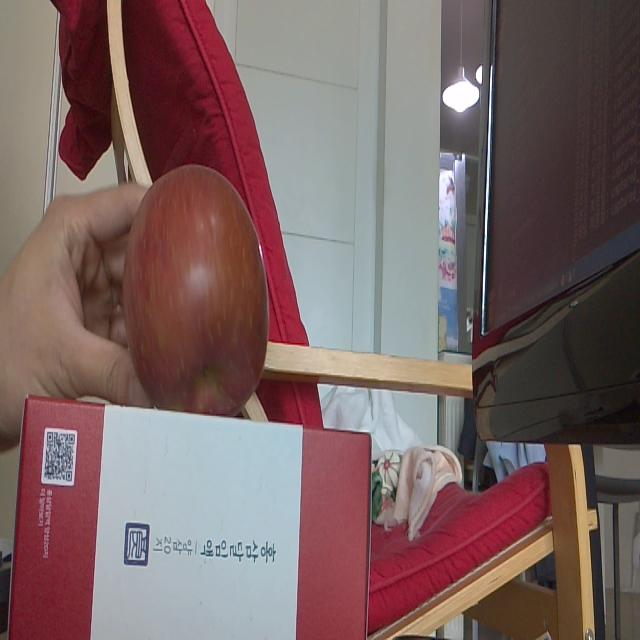apple: (121, 162, 268, 413)
